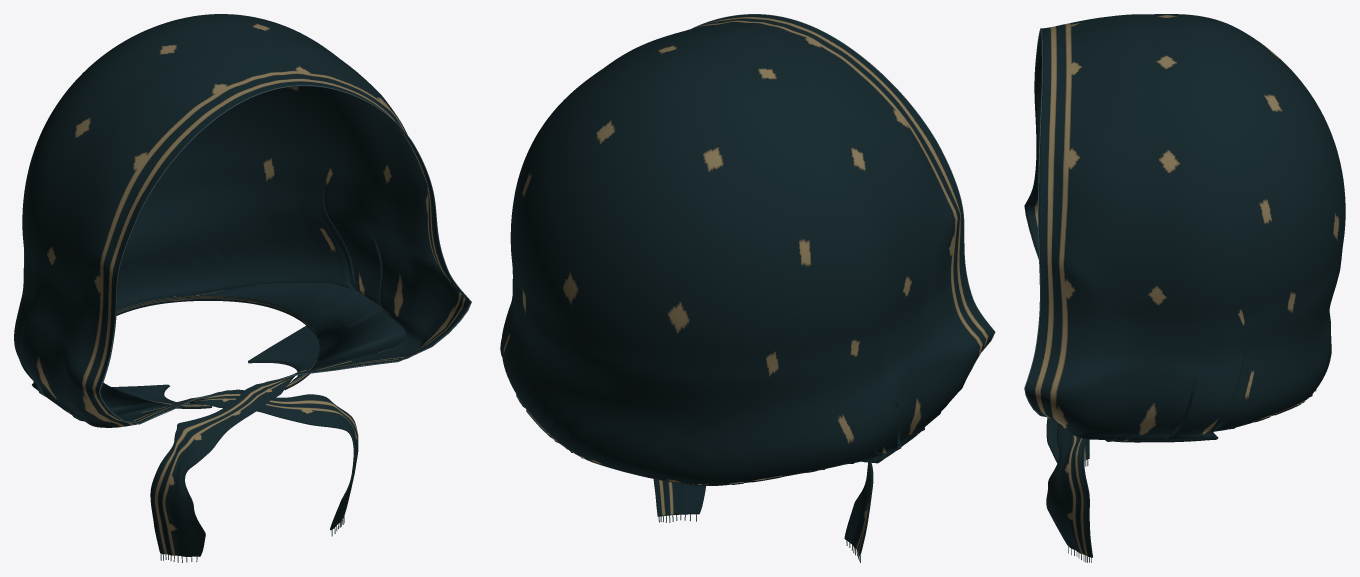
File: Feminine-Feminine-curls-tank-pashmina250-headgear-7583be13.glb
3 views of the same model, side by side, from view 1: azimuth 30°, elevation 25°; view 2: azimuth 150°, elevation 25°; view 3: azimuth 270°, elevation 25° (orthographic). The views are drawn at different scales.
Visible parts, largest first — view 1: 226 headgear / Headwear / continuous woven pashmina239, 226 headgear / Headwear / face edge239; view 2: 226 headgear / Headwear / continuous woven pashmina239, 226 headgear / Headwear / face edge239; view 3: 226 headgear / Headwear / continuous woven pashmina239, 226 headgear / Headwear / face edge239.
Boxes of the visible parts, x1=… form: 226 headgear / Headwear / continuous woven pashmina239: x1=14, y1=14, x2=470, y2=556; 226 headgear / Headwear / face edge239: x1=98, y1=85, x2=471, y2=424; 226 headgear / Headwear / continuous woven pashmina239: x1=500, y1=14, x2=994, y2=555; 226 headgear / Headwear / face edge239: x1=692, y1=14, x2=995, y2=351; 226 headgear / Headwear / continuous woven pashmina239: x1=1024, y1=14, x2=1345, y2=557; 226 headgear / Headwear / face edge239: x1=1024, y1=28, x2=1045, y2=416.
Size of the model in its own units: 1.02 by 1.24 by 0.7408.
Materials: 3 (1 with a texture image).
